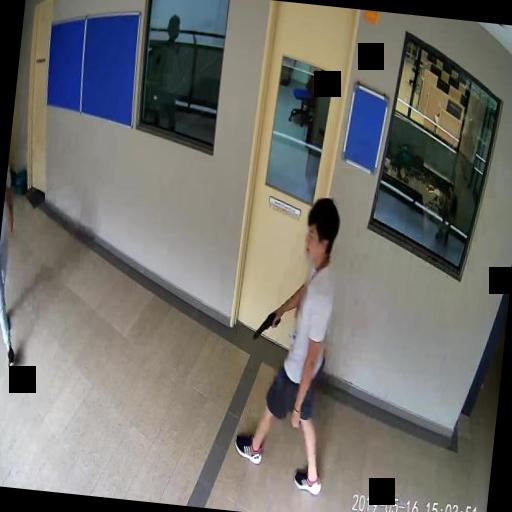Handgun: (252, 304, 280, 340)
